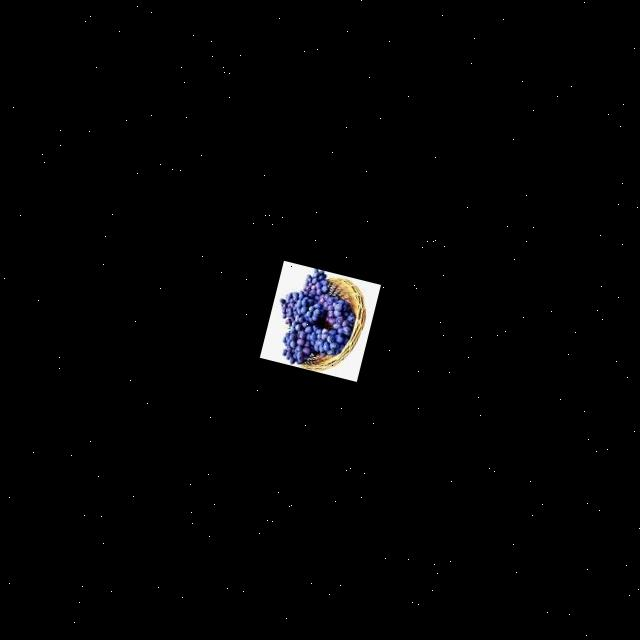grape: (265, 260, 364, 374)
